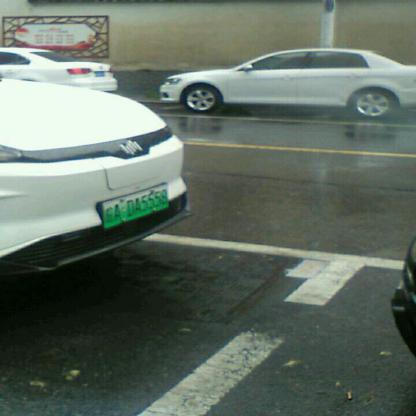lp: (104, 182, 170, 228)
